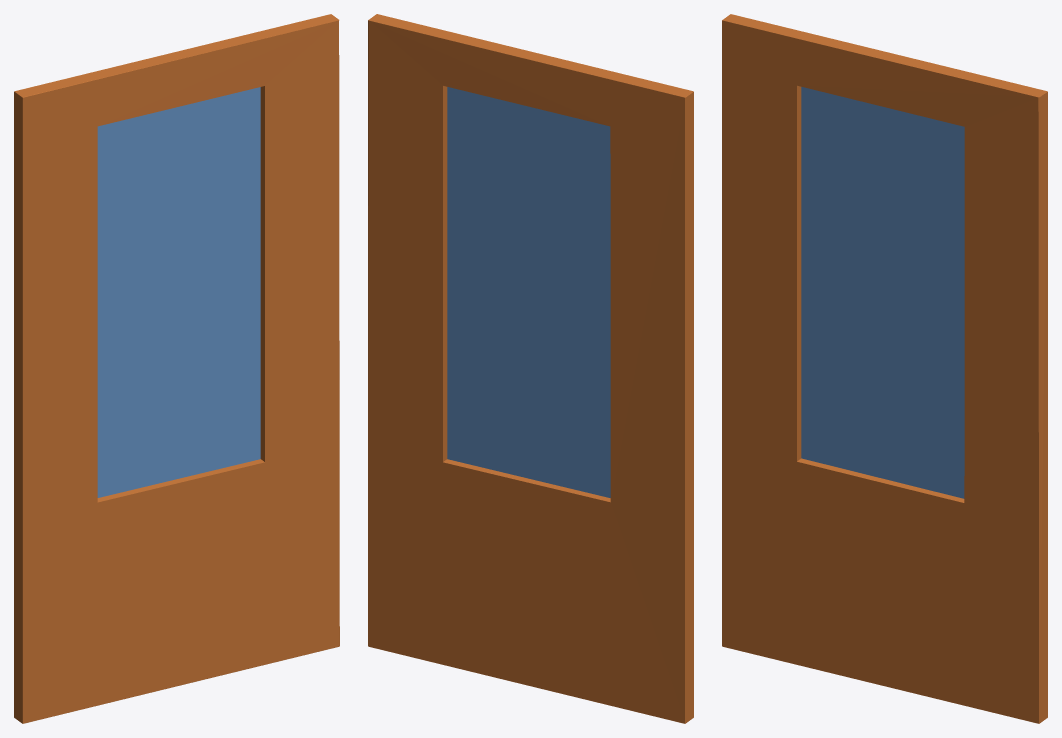
The model's file is office_door.dae.
3 renders of one model, left to right at view 1: azimuth 30°, elevation 25°; view 2: azimuth 150°, elevation 25°; view 3: azimuth 330°, elevation 25°, orthographic.
Visible parts, largest first — view 1: Cube; view 2: Cube; view 3: Cube.
Part boxes in pixels (x1=…): Cube: x1=14, y1=14, x2=339, y2=723; Cube: x1=368, y1=14, x2=693, y2=723; Cube: x1=722, y1=14, x2=1047, y2=723.
Size of the model in its own units: 1.06 by 0.05 by 2.
